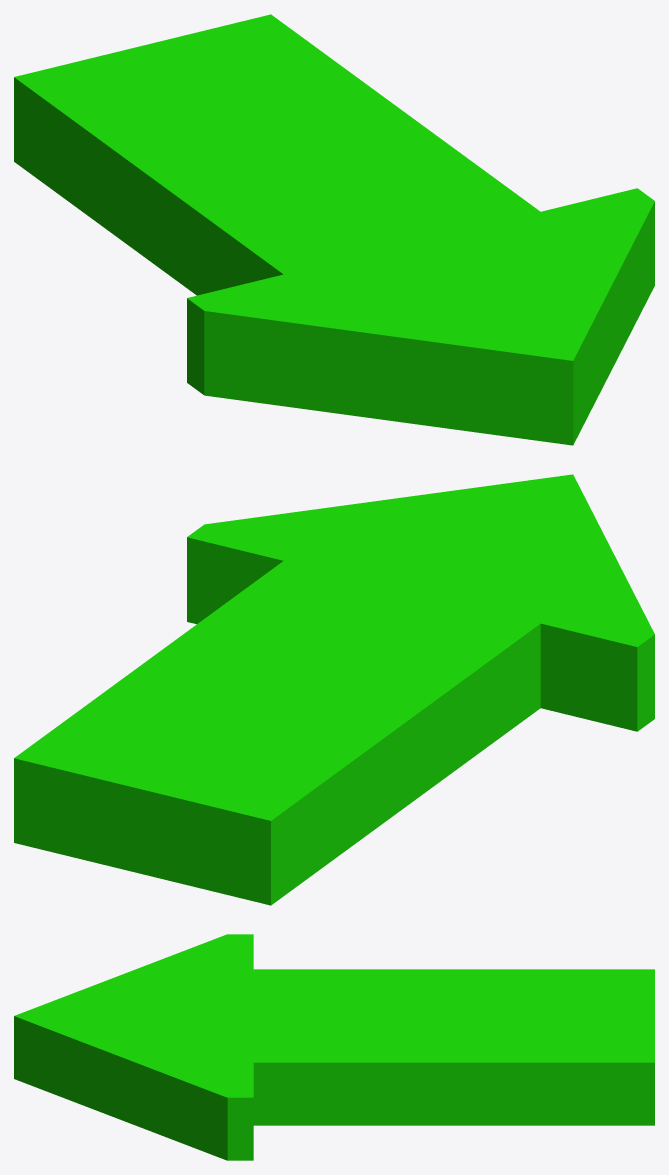
File: Arrow.fbx
3 views of the same model, one above another, from view 1: azimuth 30°, elevation 25°; view 2: azimuth 150°, elevation 25°; view 3: azimuth 270°, elevation 25° (orthographic). The views are drawn at different scales.
Visible parts, largest first — view 1: Cube; view 2: Cube; view 3: Cube.
Part boxes in pixels (<box>): Cube: <box>14,14,654,445</box>; Cube: <box>14,474,654,905</box>; Cube: <box>14,934,654,1160</box>.
Bounding box in the file's own units: 351 × 62.94 × 580.
